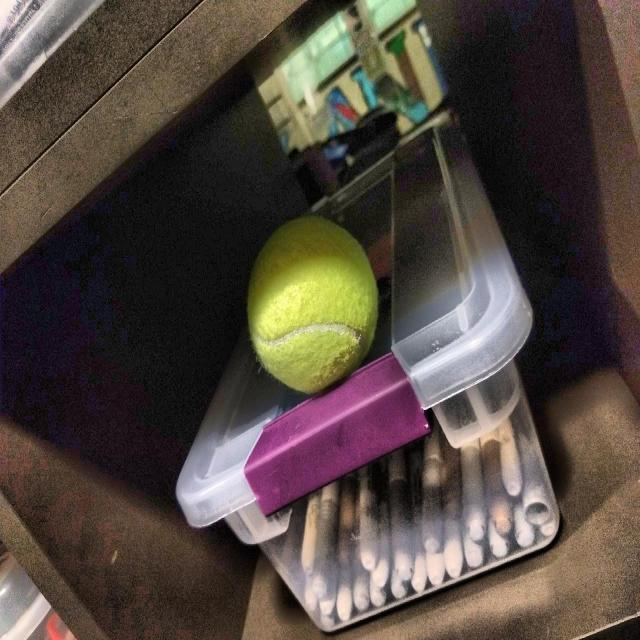tennis-ball: (246, 225, 386, 399)
